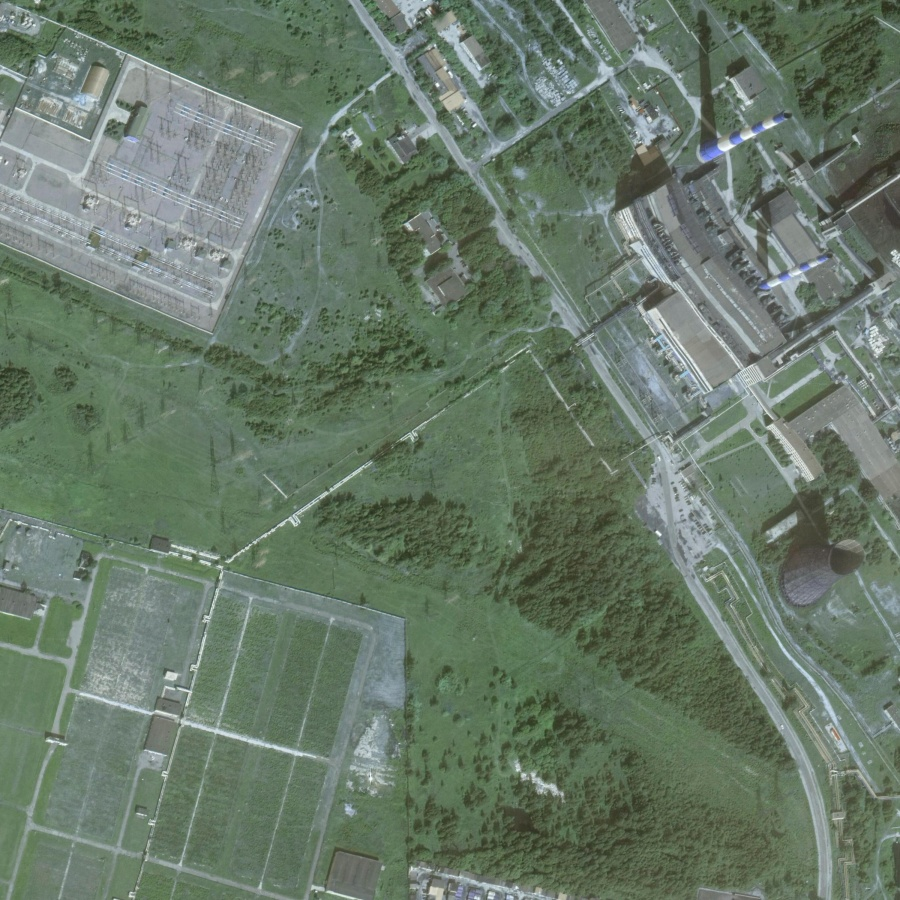PowerPlant: (755, 488, 884, 618)
